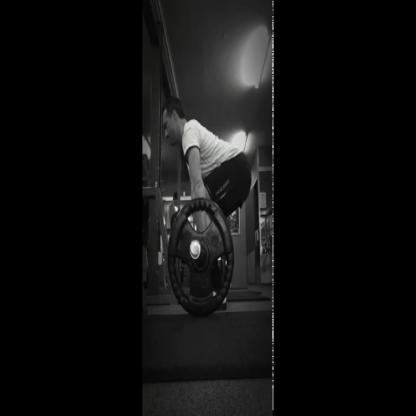Barbell: (164, 194, 237, 320)
